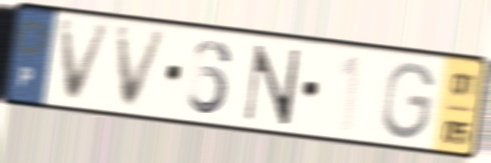1: (337, 54, 364, 135)
6: (187, 38, 234, 117)
G: (378, 59, 438, 143)
N: (240, 41, 305, 128)
V: (112, 24, 174, 112), (56, 17, 117, 106)
